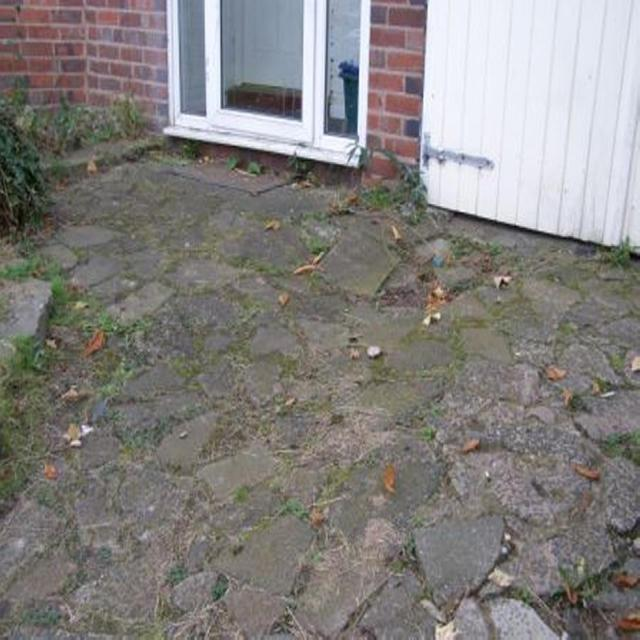defective_paving: (103, 162, 523, 478), (49, 168, 416, 420), (198, 430, 457, 625)
